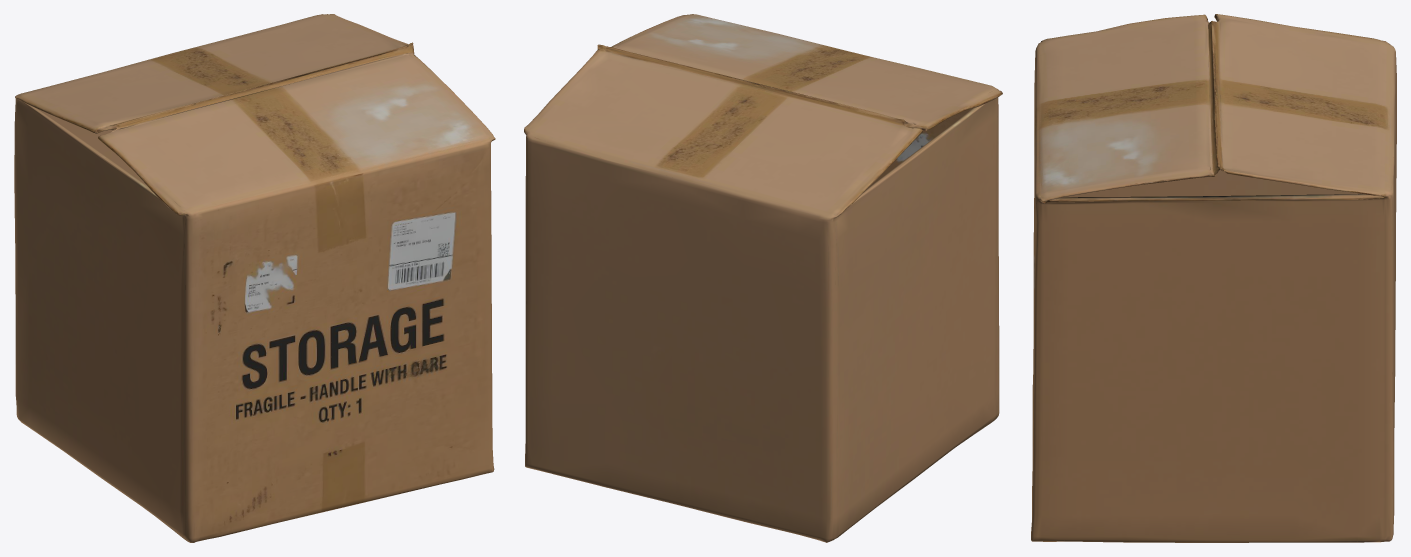
File: selected.glb
3 views of the same model, side by side, from view 1: azimuth 30°, elevation 25°; view 2: azimuth 150°, elevation 25°; view 3: azimuth 270°, elevation 25° (orthographic). The views are drawn at different scales.
Visible parts, largest first — view 1: tripo_node_9c198957-bb2e-495f-9563-fed18b442d5e; view 2: tripo_node_9c198957-bb2e-495f-9563-fed18b442d5e; view 3: tripo_node_9c198957-bb2e-495f-9563-fed18b442d5e.
Boxes of the visible parts, x1,y1,x2,y2 form: tripo_node_9c198957-bb2e-495f-9563-fed18b442d5e: (14,14,495,542); tripo_node_9c198957-bb2e-495f-9563-fed18b442d5e: (524,14,1002,542); tripo_node_9c198957-bb2e-495f-9563-fed18b442d5e: (1031,14,1396,542).
Bounding box in the file's own units: 0.9316 × 0.998 × 0.873.
1 material, 1 textured.
